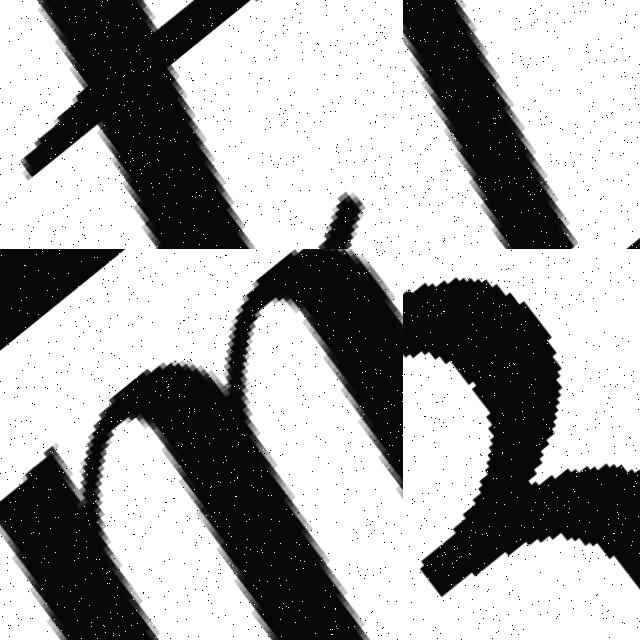3: (403, 249, 640, 640)
L: (403, 0, 640, 249)
M: (0, 249, 403, 640)
T: (0, 0, 403, 249)
